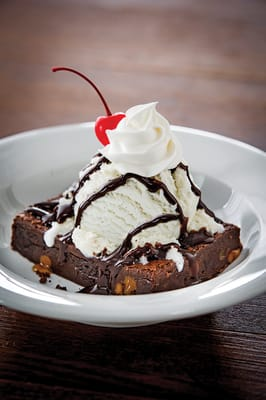curry: (1, 293, 266, 400)
sushi: (10, 101, 244, 296)
